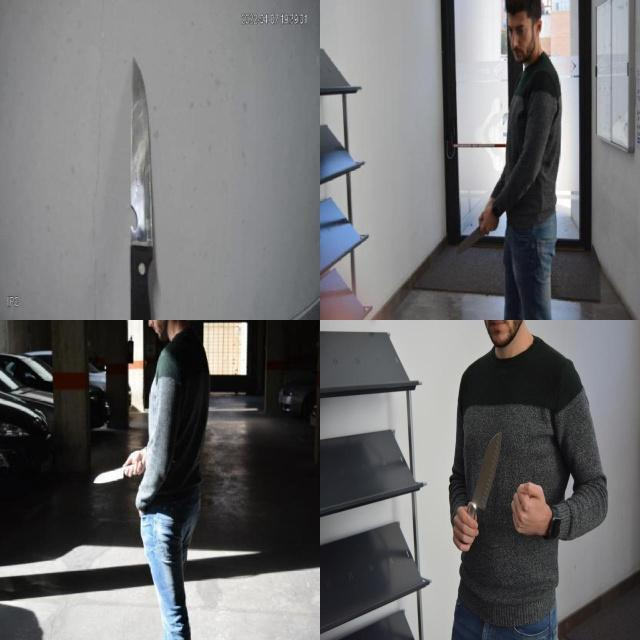-: (124, 51, 161, 319), (462, 427, 504, 528), (90, 459, 142, 484), (454, 221, 486, 256)
